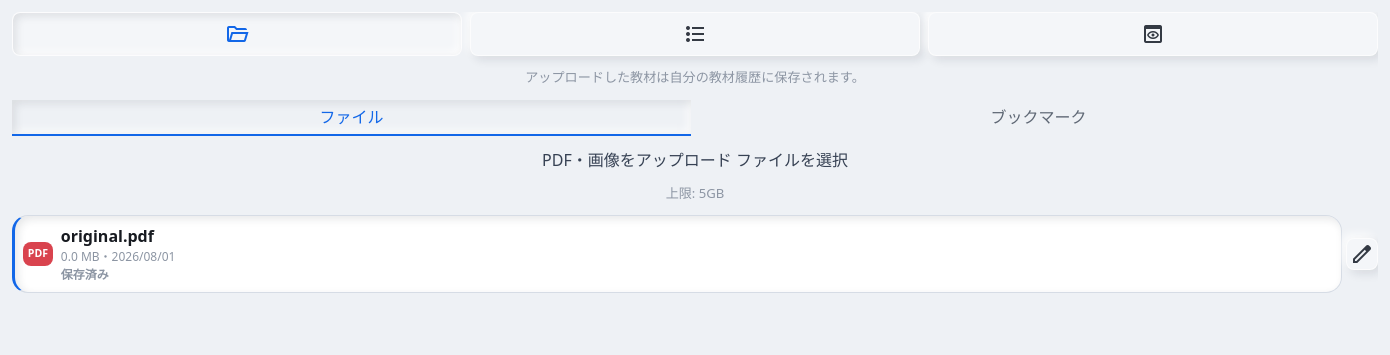
TextbookPanel › 保存済み資料の表示名を楽観更新しRepositoryへ保存する
Click the button named "original.pdfの資料名を変更". click: (1362, 254)
box: [1346, 238, 1378, 270]
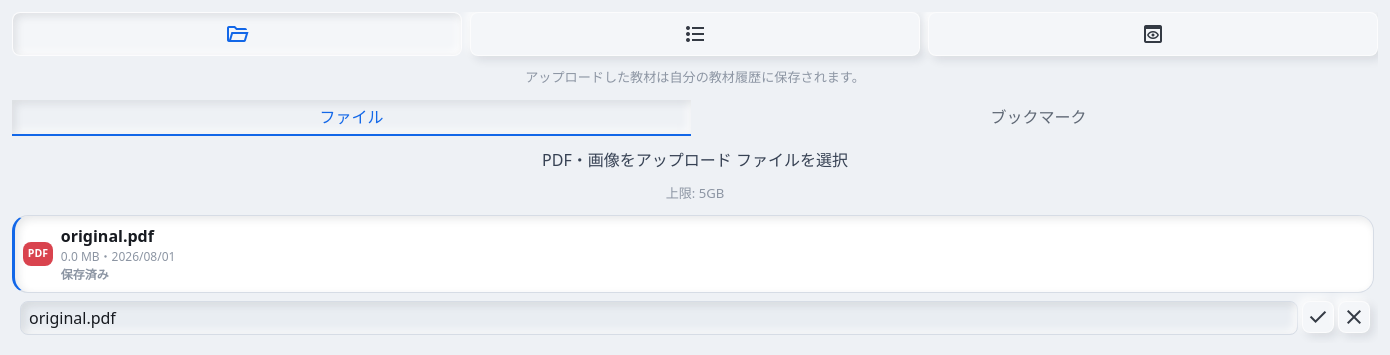
Replace the text in the field named "資料名" with "解析学.pdf". click: (659, 318)
box: [20, 301, 1298, 335]
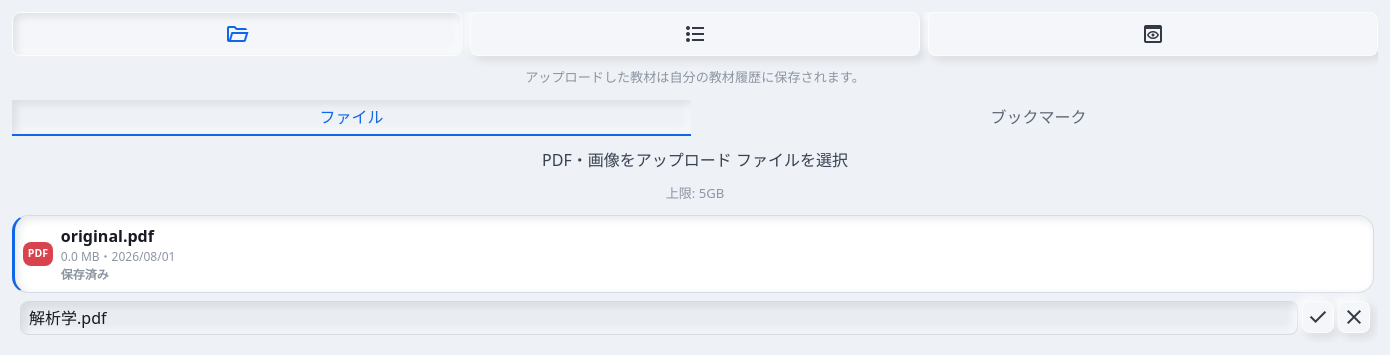
Press Enter in the field named "資料名", box [20, 301, 1298, 335]
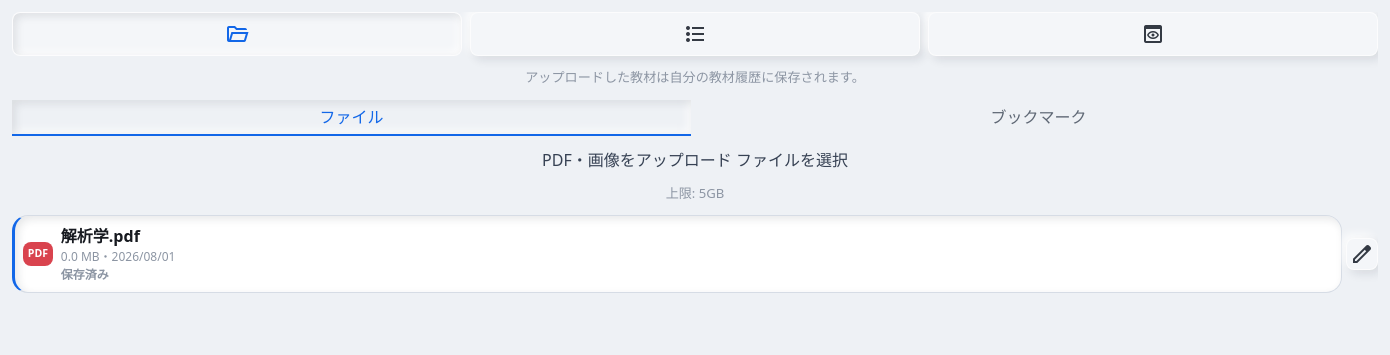
Now the text "解析学.pdf" is shown, box [61, 225, 140, 247]
